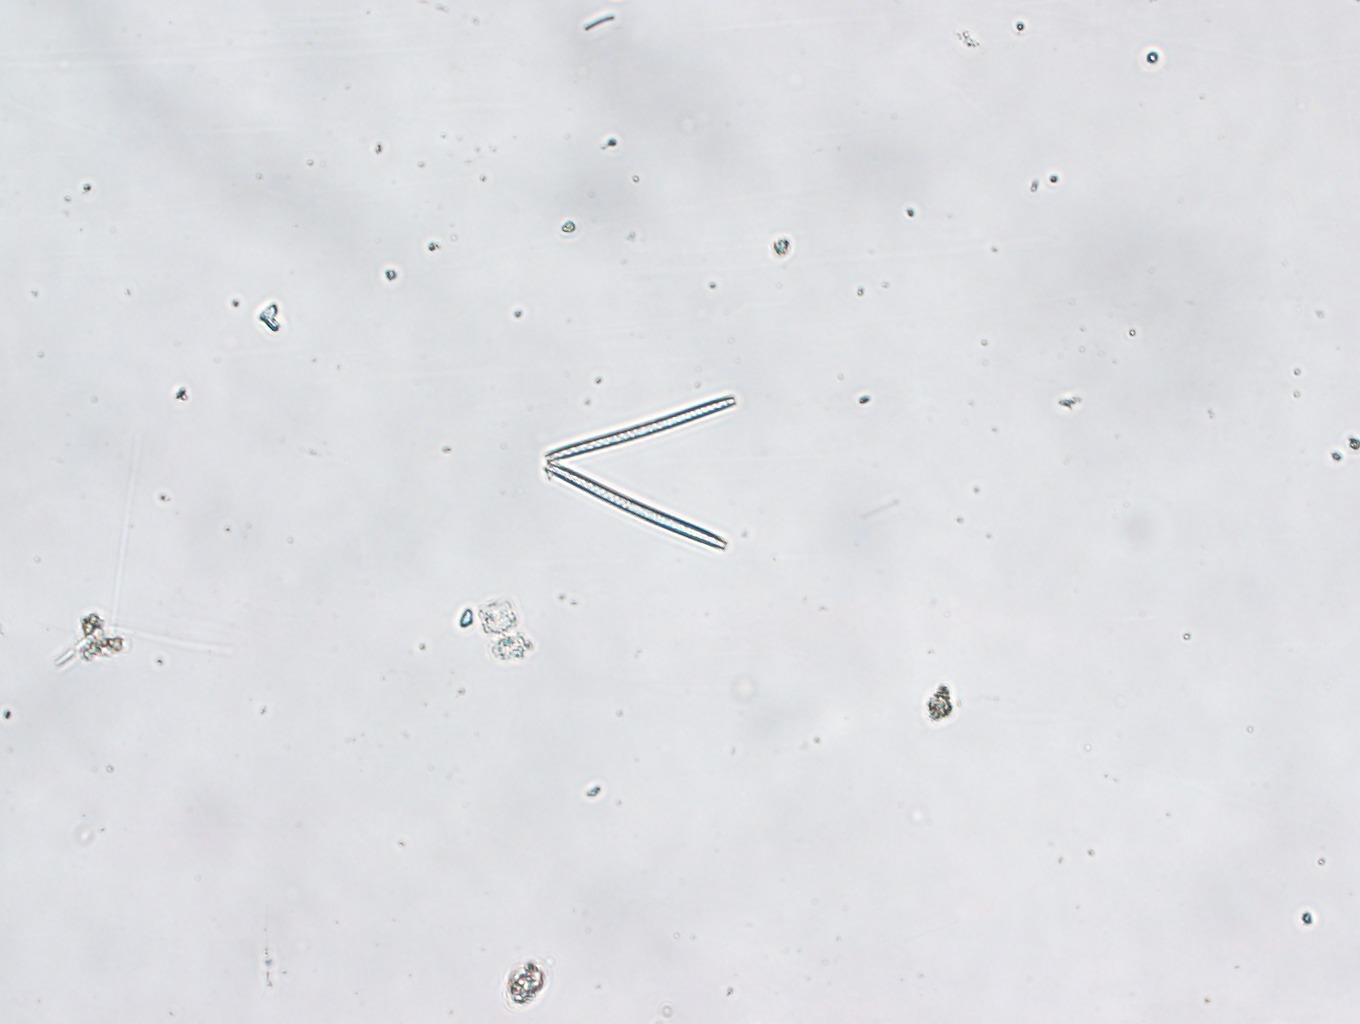thalassionema frauenfeldii: (542, 394, 736, 552)
